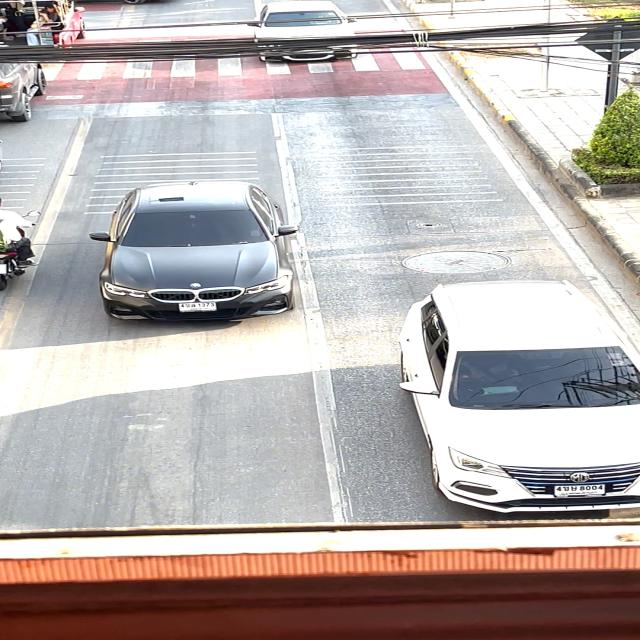car: (386, 266, 640, 524), (80, 170, 323, 336), (253, 0, 386, 69)
